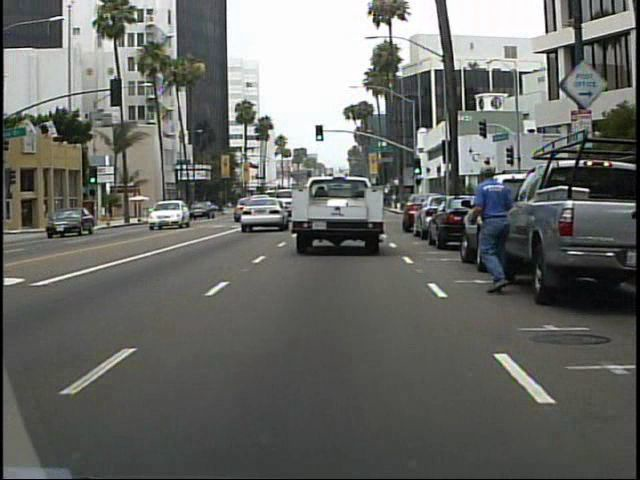person: (465, 162, 514, 294)
